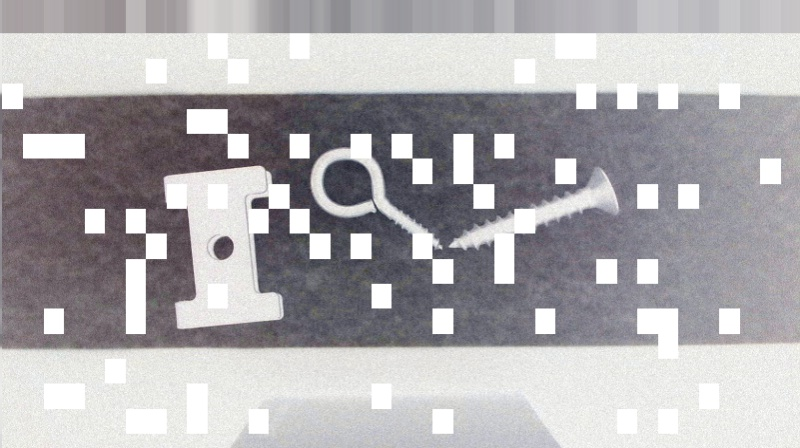O001: (308, 146, 446, 250)
O002: (161, 164, 286, 329)
S001: (448, 163, 621, 248)
